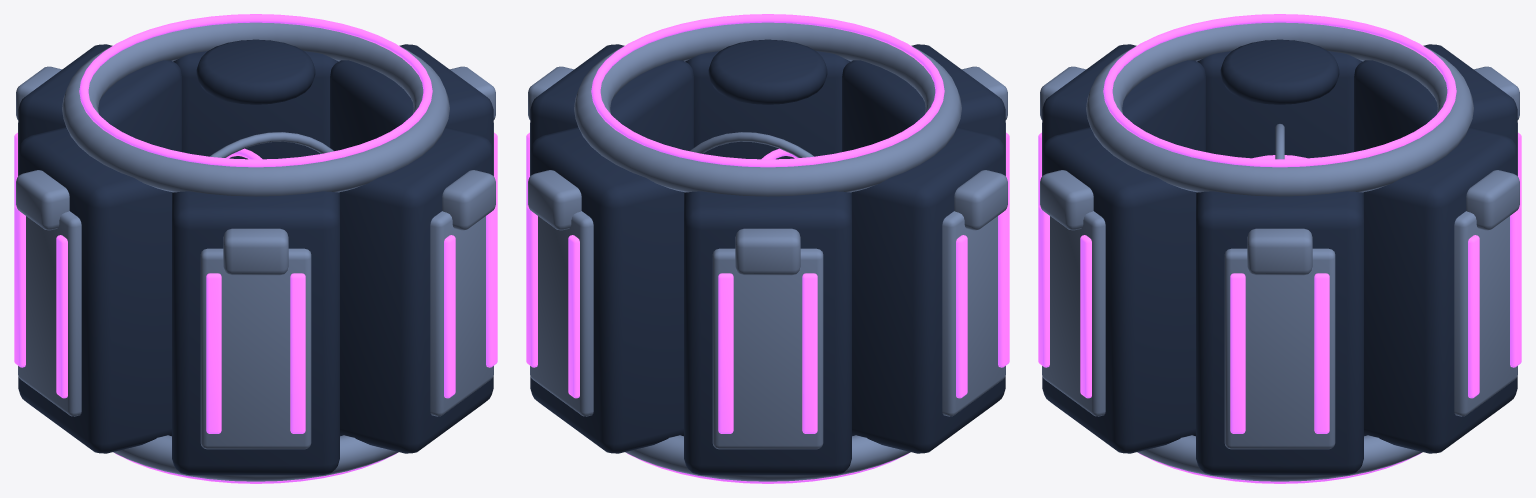
Rendered from salvage-package.glb.
The picture shows the model from 3 angles, left to right: view 1: azimuth 30°, elevation 25°; view 2: azimuth 150°, elevation 25°; view 3: azimuth 270°, elevation 25°; orthographic projection.
Parts seen in each view (by area): view 1: Shell_Petal_03, Shell_Petal_05, Shell_Petal_04, Collar_Top, Petal_Inset_04, Shell_Petal_01, Petal_Inset_03, Petal_Inset_05, Shell_Petal_02, Shell_Petal_00, Collar_Energy_Top, Collar_Cap_Top (+14 smaller); view 2: Shell_Petal_01, Shell_Petal_03, Shell_Petal_02, Collar_Top, Petal_Inset_02, Shell_Petal_05, Petal_Inset_01, Petal_Inset_03, Shell_Petal_04, Shell_Petal_00, Collar_Energy_Top, Collar_Cap_Top (+14 smaller); view 3: Shell_Petal_01, Shell_Petal_05, Shell_Petal_00, Collar_Top, Petal_Inset_00, Shell_Petal_03, Petal_Inset_01, Petal_Inset_05, Shell_Petal_02, Shell_Petal_04, Collar_Energy_Top, Collar_Cap_Top (+13 smaller).
Boxes of the visible parts, left/top/right/bottom form: Shell_Petal_03: left=18, top=127, right=171, bottom=453; Shell_Petal_05: left=340, top=127, right=493, bottom=453; Shell_Petal_04: left=172, top=191, right=339, bottom=475; Collar_Top: left=62, top=22, right=449, bottom=196; Petal_Inset_04: left=200, top=248, right=311, bottom=449; Shell_Petal_01: left=173, top=51, right=338, bottom=159; Petal_Inset_03: left=18, top=211, right=81, bottom=416; Petal_Inset_05: left=430, top=211, right=493, bottom=416; Shell_Petal_02: left=18, top=44, right=181, bottom=151; Shell_Petal_00: left=330, top=44, right=493, bottom=150; Collar_Energy_Top: left=79, top=14, right=432, bottom=167; Collar_Cap_Top: left=196, top=39, right=315, bottom=104; Shell_Petal_01: left=530, top=127, right=683, bottom=453; Shell_Petal_03: left=852, top=127, right=1005, bottom=453; Shell_Petal_02: left=684, top=191, right=851, bottom=475; Collar_Top: left=574, top=22, right=961, bottom=196; Petal_Inset_02: left=712, top=248, right=823, bottom=449; Shell_Petal_05: left=685, top=51, right=850, bottom=159; Petal_Inset_01: left=530, top=211, right=593, bottom=416; Petal_Inset_03: left=942, top=211, right=1005, bottom=416; Shell_Petal_04: left=842, top=44, right=1005, bottom=151; Shell_Petal_00: left=530, top=44, right=693, bottom=150; Collar_Energy_Top: left=591, top=14, right=944, bottom=167; Collar_Cap_Top: left=708, top=39, right=827, bottom=104; Shell_Petal_01: left=1364, top=127, right=1517, bottom=453; Shell_Petal_05: left=1042, top=127, right=1195, bottom=453; Shell_Petal_00: left=1196, top=191, right=1363, bottom=475; Collar_Top: left=1086, top=22, right=1473, bottom=196; Petal_Inset_00: left=1224, top=248, right=1335, bottom=449; Shell_Petal_03: left=1197, top=51, right=1362, bottom=158; Petal_Inset_01: left=1454, top=211, right=1517, bottom=416; Petal_Inset_05: left=1042, top=211, right=1105, bottom=416; Shell_Petal_02: left=1354, top=44, right=1517, bottom=151; Shell_Petal_04: left=1042, top=44, right=1205, bottom=151; Collar_Energy_Top: left=1103, top=14, right=1456, bottom=167; Collar_Cap_Top: left=1220, top=39, right=1339, bottom=104.
Size of the model in its own units: 2.74 by 2.17 by 2.53.
